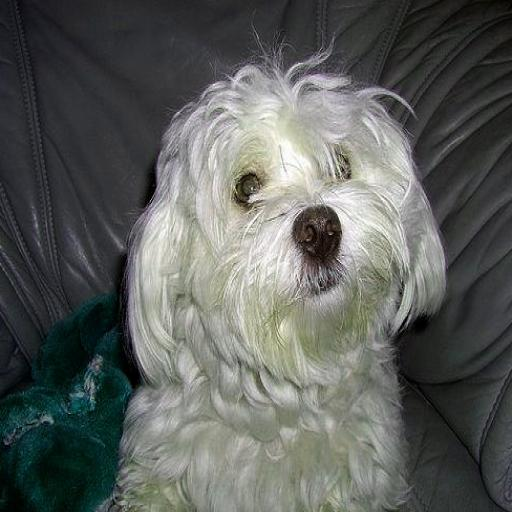dog_face: (131, 66, 437, 363)
